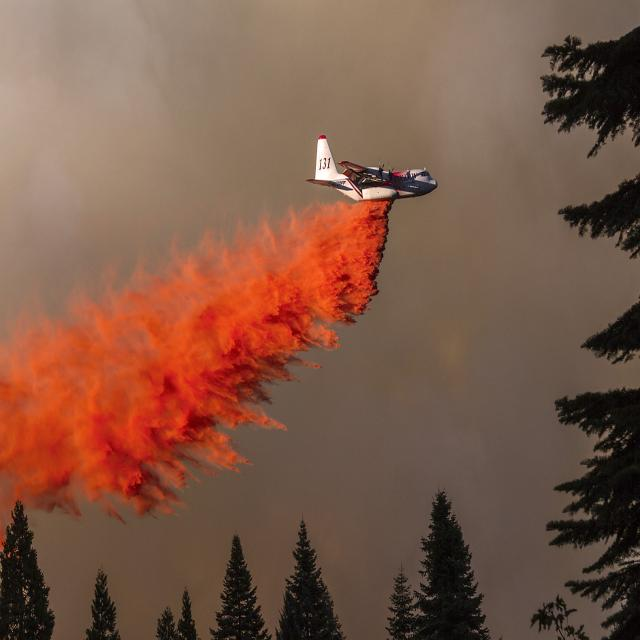MIL_Plane: (305, 104, 438, 169)
